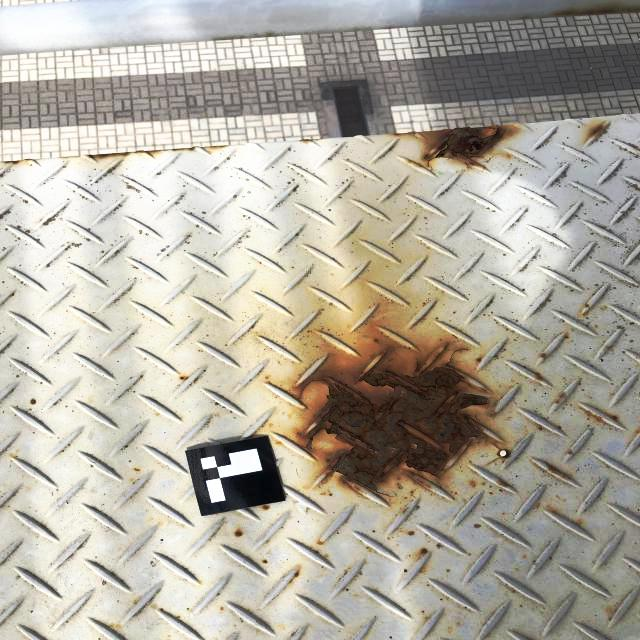Corrosion: (287, 334, 498, 497), (406, 124, 517, 170), (555, 6, 640, 16), (545, 463, 572, 479), (489, 442, 511, 460), (87, 152, 131, 159), (588, 123, 605, 138), (586, 411, 604, 422), (2, 159, 31, 164), (554, 392, 566, 404), (496, 479, 511, 487), (171, 147, 195, 151), (299, 139, 322, 143), (206, 145, 228, 149), (134, 150, 160, 153), (234, 530, 242, 538), (316, 539, 324, 546), (536, 374, 543, 382), (262, 506, 270, 512), (420, 550, 428, 556), (292, 572, 297, 580), (567, 450, 574, 455), (408, 532, 415, 536), (541, 353, 546, 358), (477, 358, 482, 362), (587, 303, 590, 308), (613, 417, 618, 420)
